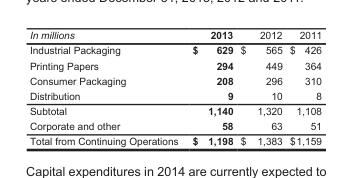table: (28, 29, 321, 146)
table column: (28, 29, 184, 146), (184, 29, 236, 146), (236, 29, 285, 146), (285, 29, 321, 146)
table column header: (28, 29, 321, 42)
table row: (28, 102, 321, 118), (28, 42, 321, 57), (28, 57, 321, 72), (28, 72, 321, 87), (28, 87, 321, 102), (28, 118, 321, 133), (28, 29, 321, 42), (28, 133, 321, 146)
